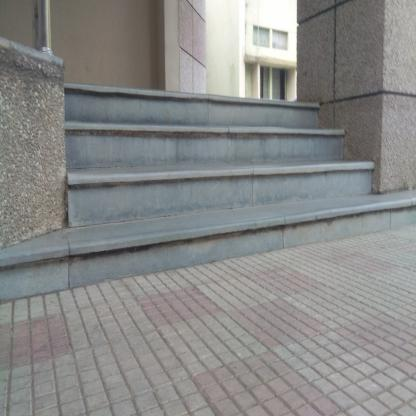stairs: (72, 94, 322, 261)
